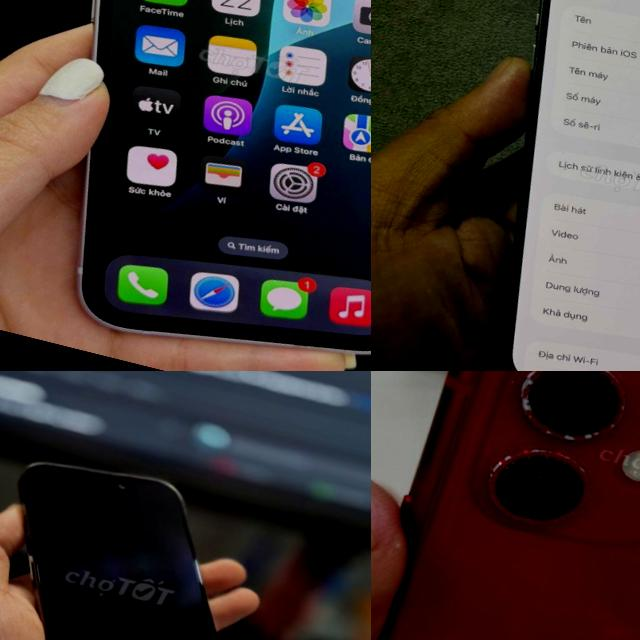gen_11: (371, 371, 640, 640)
gen_14: (0, 0, 371, 371)
gen_15: (418, 0, 640, 371), (0, 406, 324, 640)
scratch: (466, 371, 640, 546)
